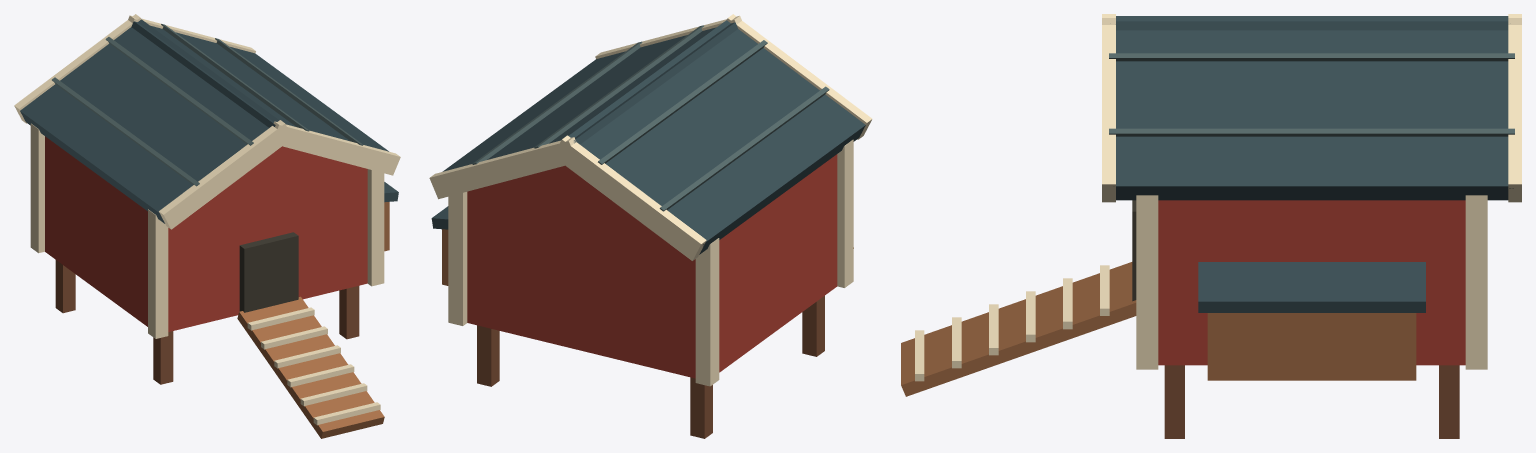
The model's file is chicken_coop.glb.
3 views of the same model, side by side, from view 1: azimuth 30°, elevation 25°; view 2: azimuth 150°, elevation 25°; view 3: azimuth 270°, elevation 25° (orthographic). The views are drawn at different scales.
Visible parts, largest first — view 1: chicken_coop; view 2: chicken_coop; view 3: chicken_coop.
Boxes of the visible parts, <box> form: chicken_coop: <box>14,14,400,438</box>; chicken_coop: <box>429,14,872,438</box>; chicken_coop: <box>901,14,1521,438</box>.
Bounding box in the file's own units: 3.18 × 2.89 × 4.53.
